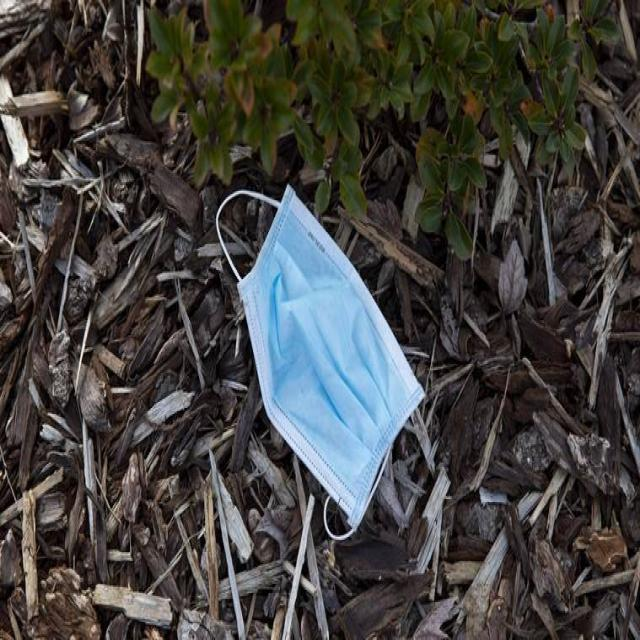face mask: (214, 179, 422, 531)
